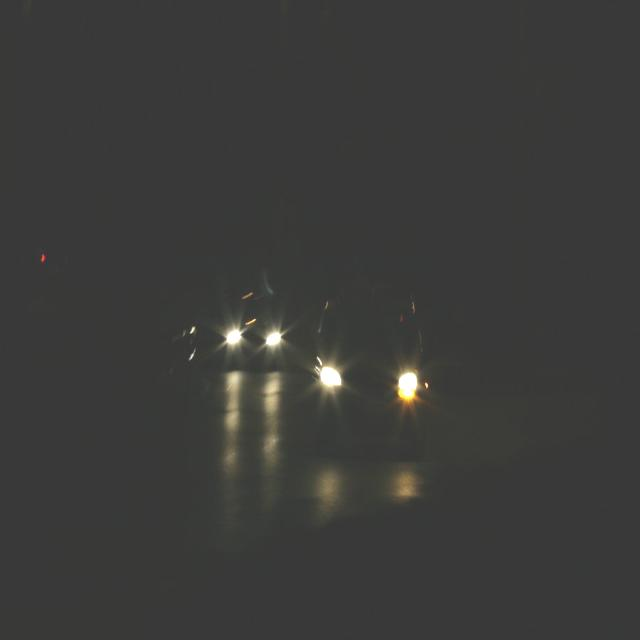Car: (304, 298, 435, 457), (212, 283, 297, 380)
